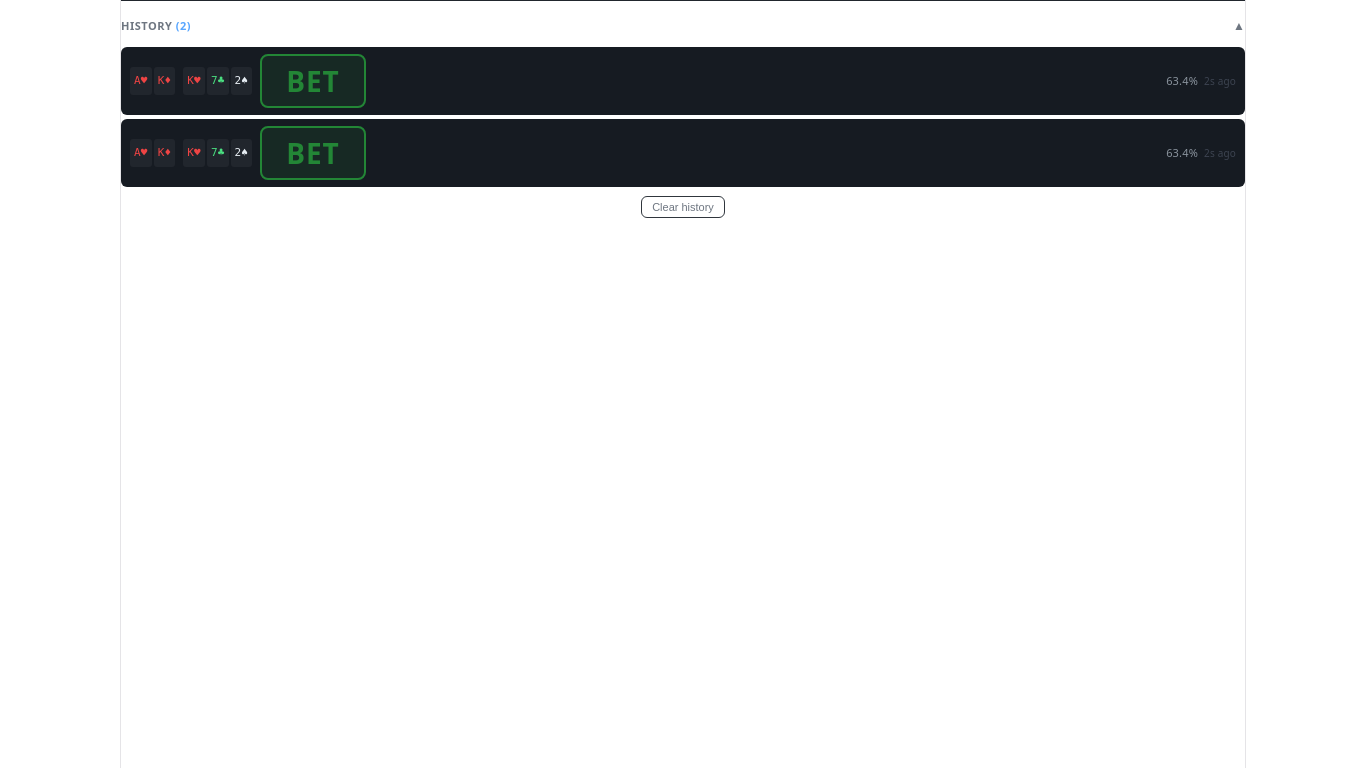
HistoryPanel component › collapses on header click
The image size is (1366, 768).
Click the button with test id "history-toggle": (148, 26) [121, 13, 1245, 39]
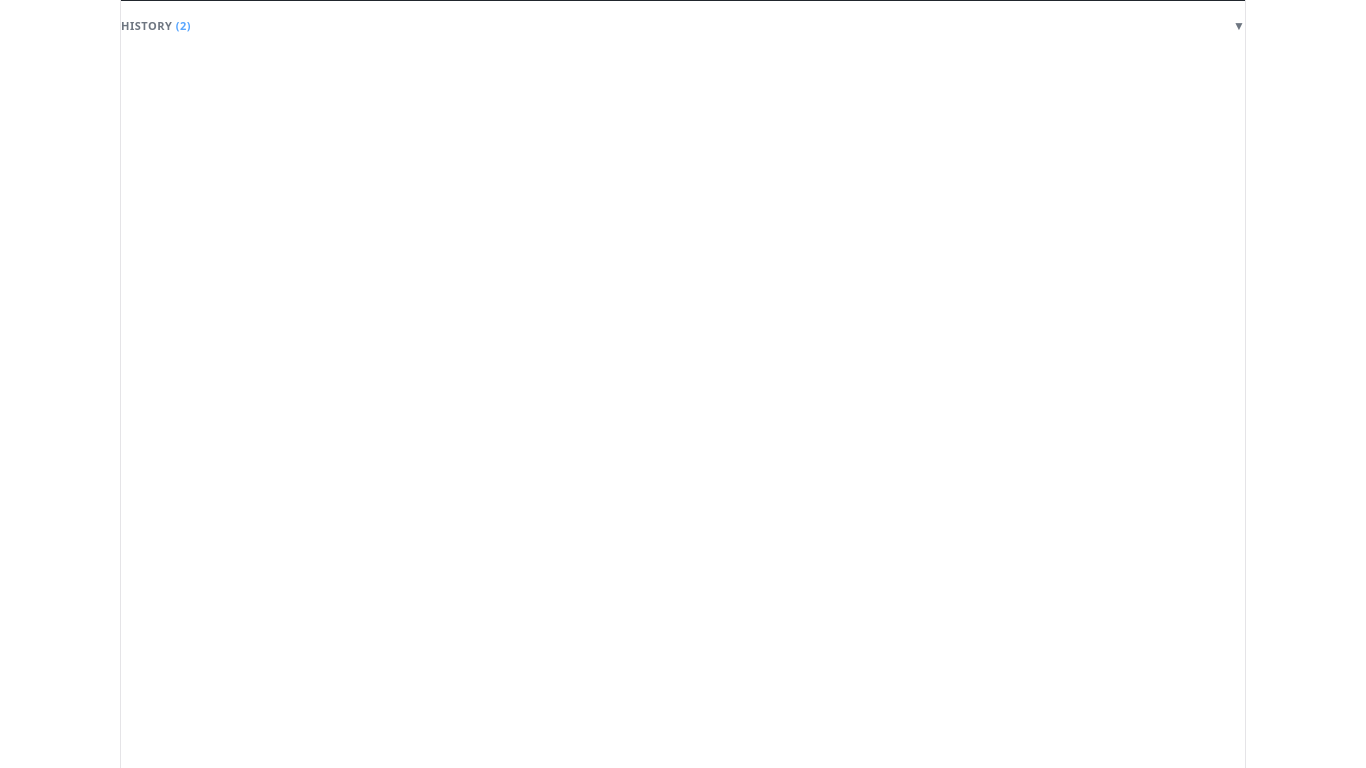
Check: the button with test id "history-spot-p1" is gone
